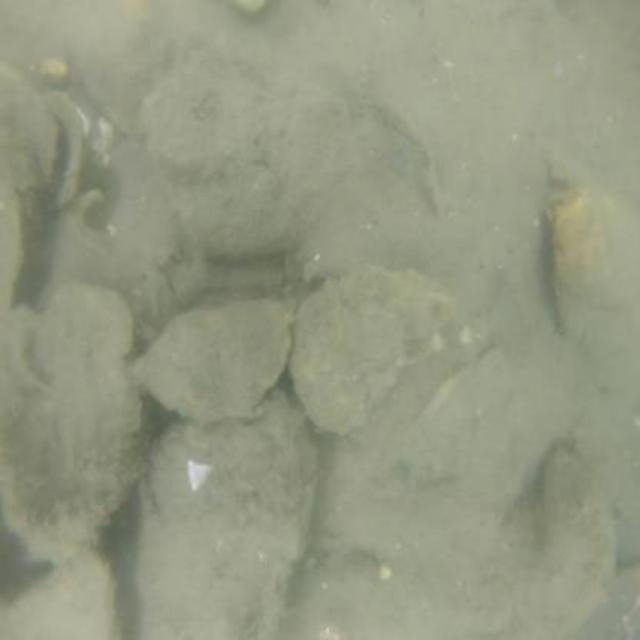Oyster-Closed: (140, 65, 352, 274), (138, 392, 313, 640), (1, 285, 143, 559), (291, 268, 453, 428), (136, 300, 287, 424), (516, 453, 609, 633)
Oyster-Open: (27, 95, 86, 202)
